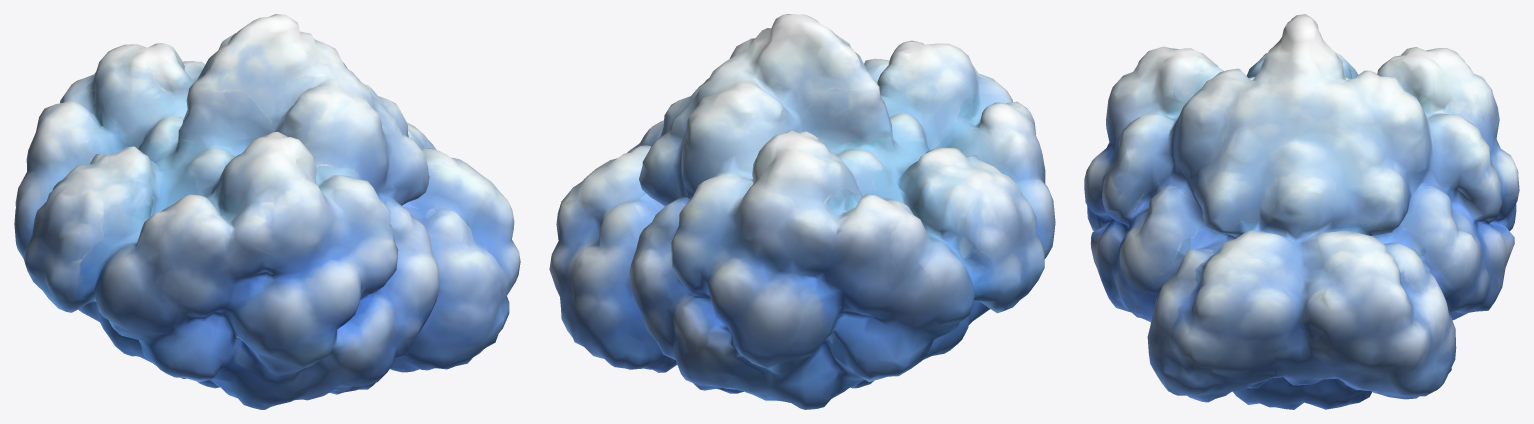
File: Create_a_gently_swirl_0701063523_texture.glb
3 renders of one model, left to right at view 1: azimuth 30°, elevation 25°; view 2: azimuth 150°, elevation 25°; view 3: azimuth 270°, elevation 25°, orthographic. The views are drawn at different scales.
Bounding box in the file's own units: 1 × 0.8302 × 0.9152.
Materials: 1 (1 with a texture image).
